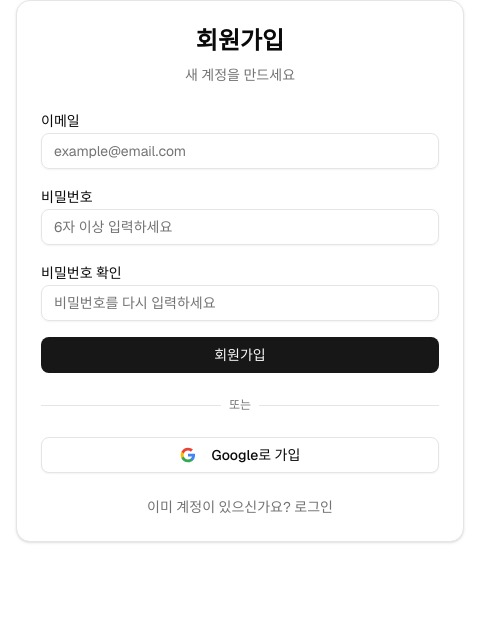
SignupForm › shows validation error when password is too short
This screenshot has width=481, height=620.
Type "test@example.com" into the field labelled "이메일" at [240, 151], box [41, 133, 439, 169]
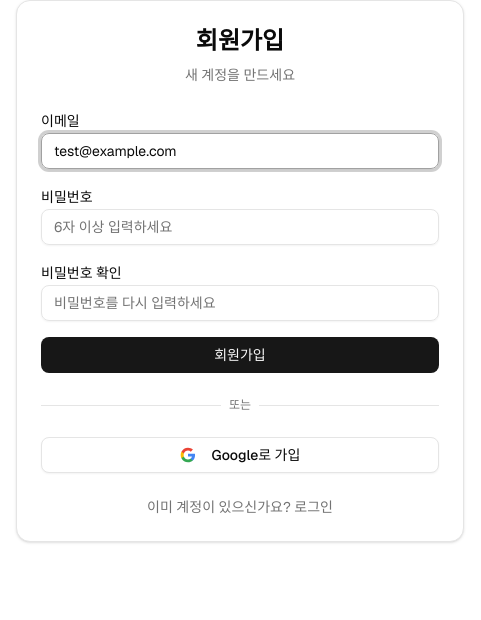
Type "12345" into the password field labelled "비밀번호" at [240, 227], box [41, 209, 439, 245]
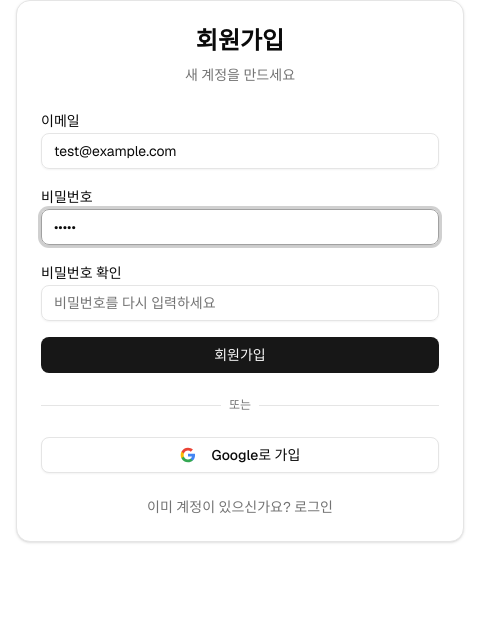
Type "12345" into the password field labelled "비밀번호 확인" at [240, 303], box [41, 285, 439, 321]
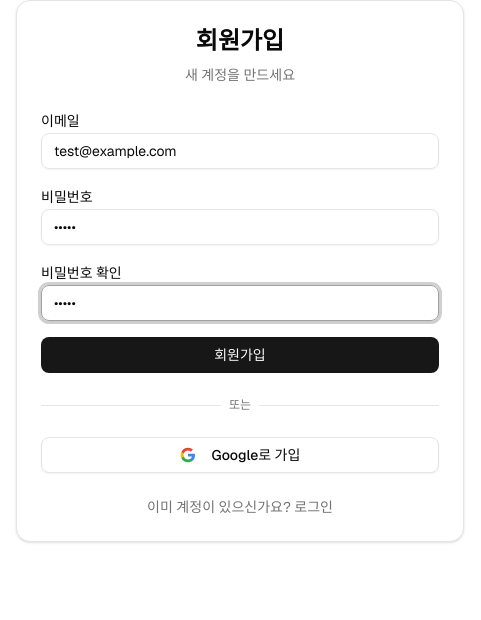
Click the button "회원가입" at [240, 355], box [41, 337, 439, 373]
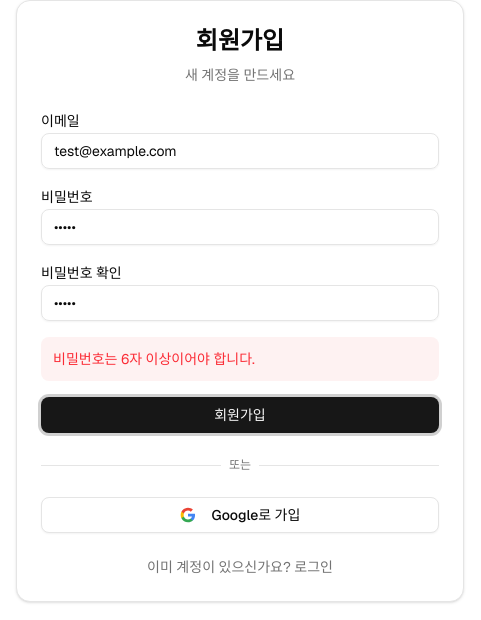
Result: the text "비밀번호는 6자 이상이어야 합니다." is shown at [41, 337, 439, 381]
